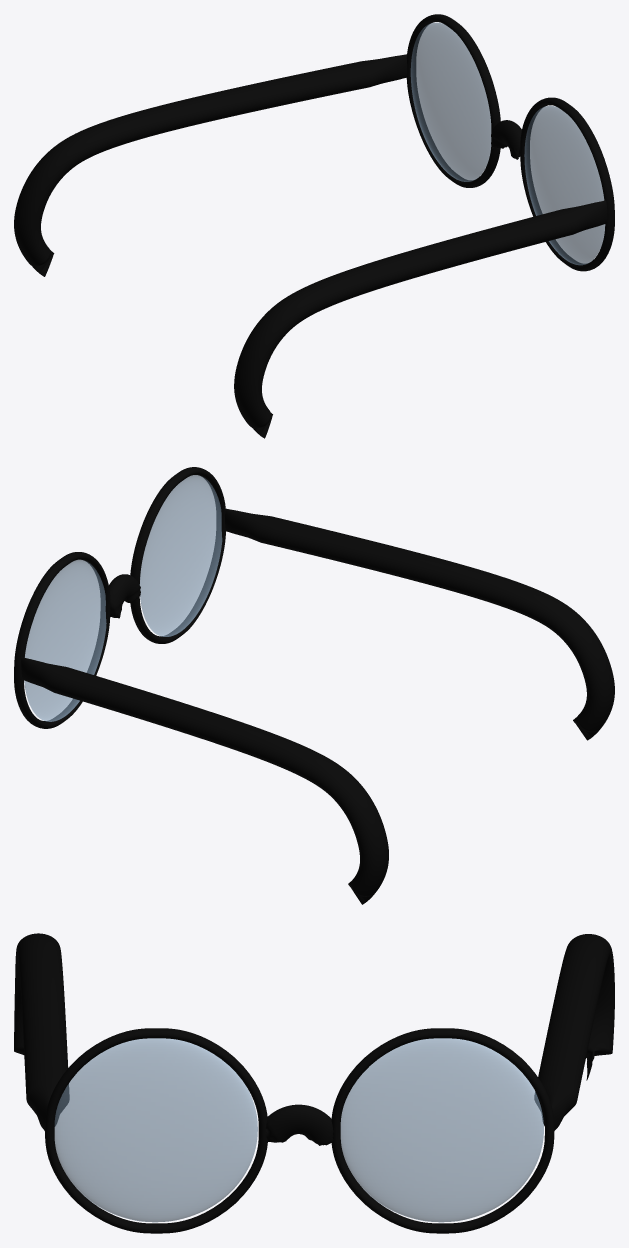
File: glasses.fbx
3 views of the same model, one above another, from view 1: azimuth 30°, elevation 25°; view 2: azimuth 150°, elevation 25°; view 3: azimuth 270°, elevation 25° (orthographic). The views are drawn at different scales.
Parts seen in each view (by area): view 1: Frame.000, Glasses; view 2: Frame.000, Glasses; view 3: Glasses, Frame.000.
Boxes of the visible parts, x1,y1,x2,y2 form: Frame.000: [14, 14, 614, 438]; Glasses: [410, 22, 605, 265]; Frame.000: [14, 467, 614, 904]; Glasses: [24, 475, 222, 721]; Glasses: [54, 1038, 543, 1222]; Frame.000: [14, 933, 614, 1233].
Size of the model in its own units: 1.57 by 0.8277 by 1.69.
